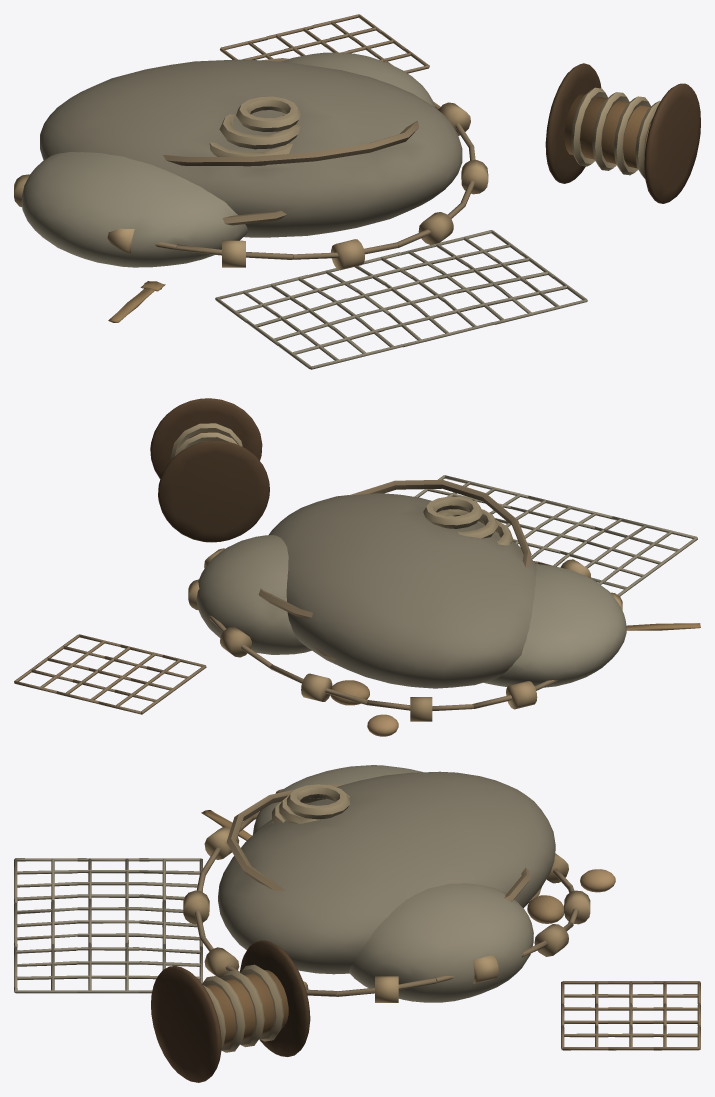
The model's file is net_hoard_b_lod1.glb.
3 renders of one model, top to bottom at view 1: azimuth 30°, elevation 25°; view 2: azimuth 150°, elevation 25°; view 3: azimuth 270°, elevation 25°, orthographic. The views are drawn at different scales.
Parts seen in each view (by area): view 1: Surface.001; view 2: Surface.001; view 3: Surface.001.
Boxes of the visible parts, x1,y1,x2,y2 form: Surface.001: (14,14,700,369); Surface.001: (14,398,700,736); Surface.001: (14,765,700,1082).
Bounding box in the file's own units: 6.92 × 1.48 × 7.03.
